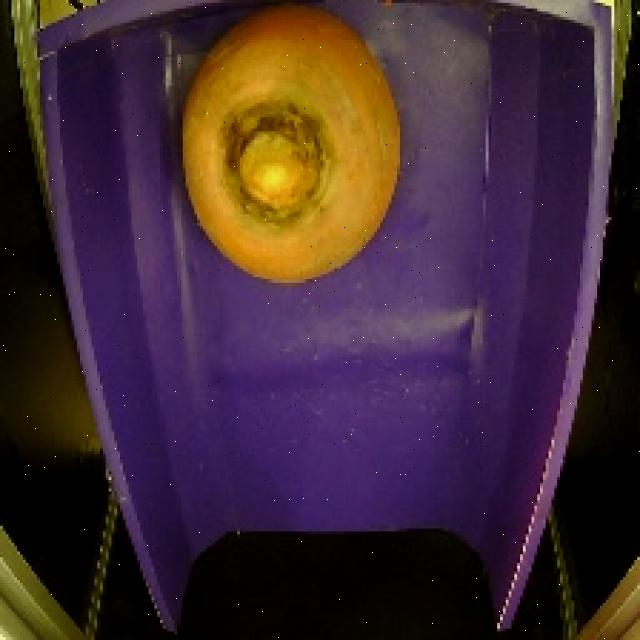carrots: (166, 0, 409, 294)
